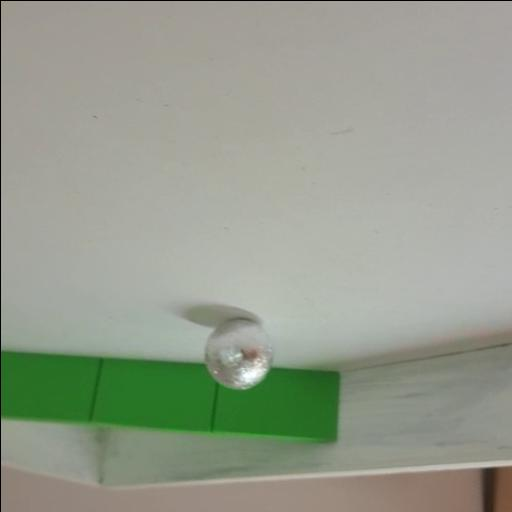alive: (204, 318, 272, 390)
